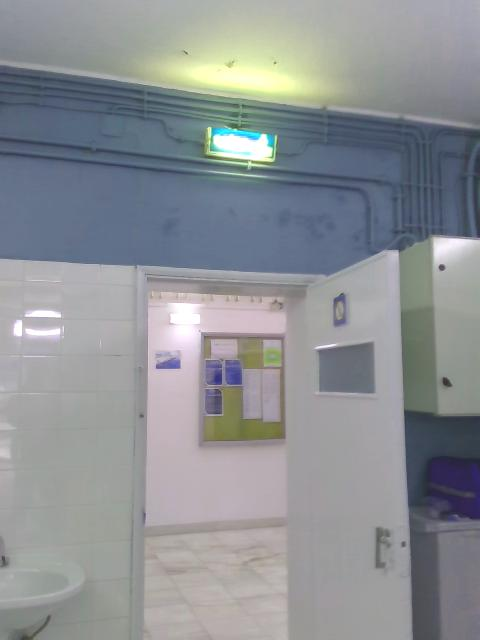open_door: (132, 263, 325, 639)
